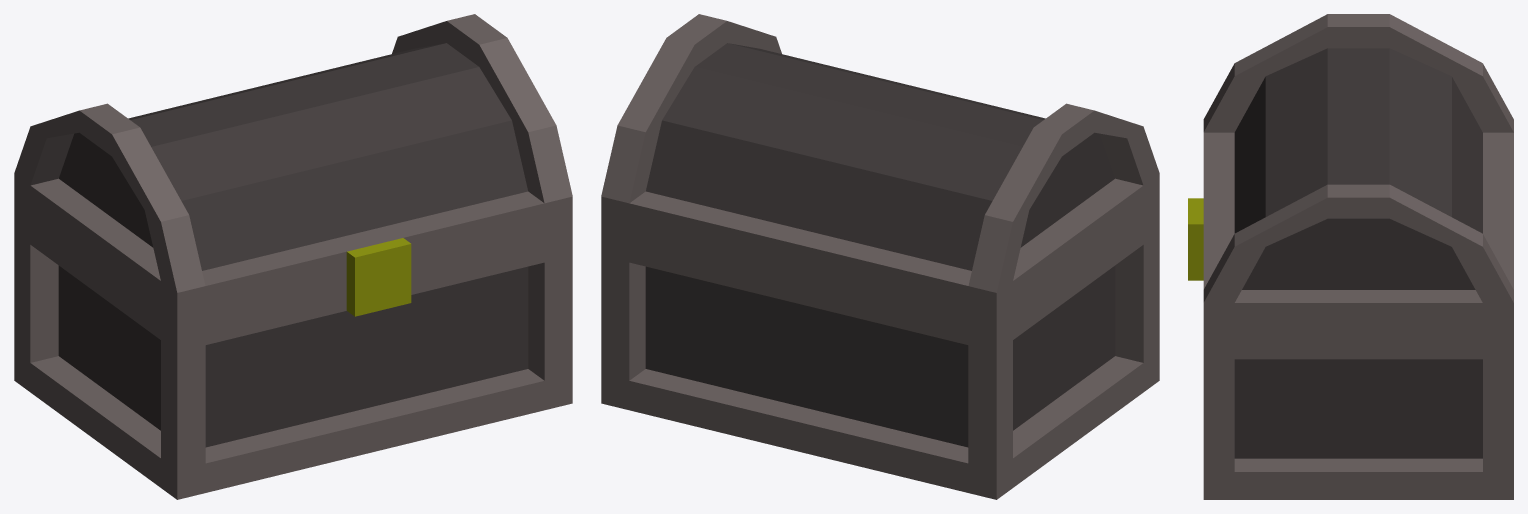
File: obj_shantay_chest_0.obj
3 views of the same model, side by side, from view 1: azimuth 30°, elevation 25°; view 2: azimuth 150°, elevation 25°; view 3: azimuth 270°, elevation 25° (orthographic). The views are drawn at different scales.
Bounding box in the file's own units: 0.875 × 0.6719 × 0.6562.
